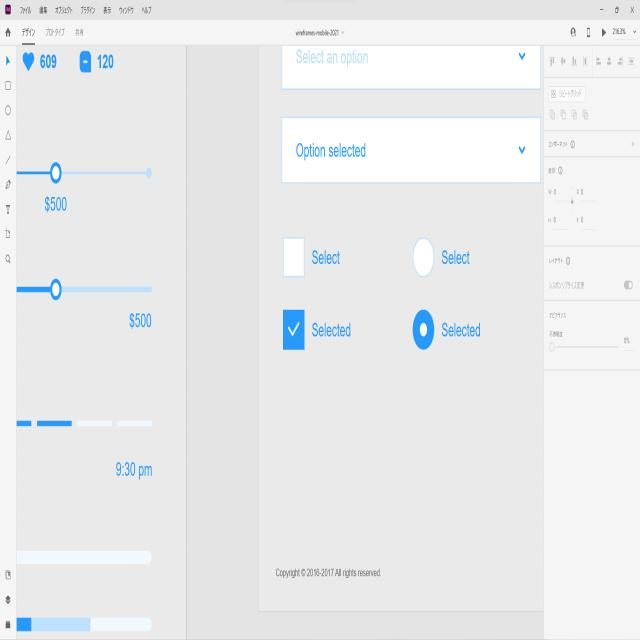checkbox: (282, 307, 307, 352)
radio: (411, 308, 436, 351)
